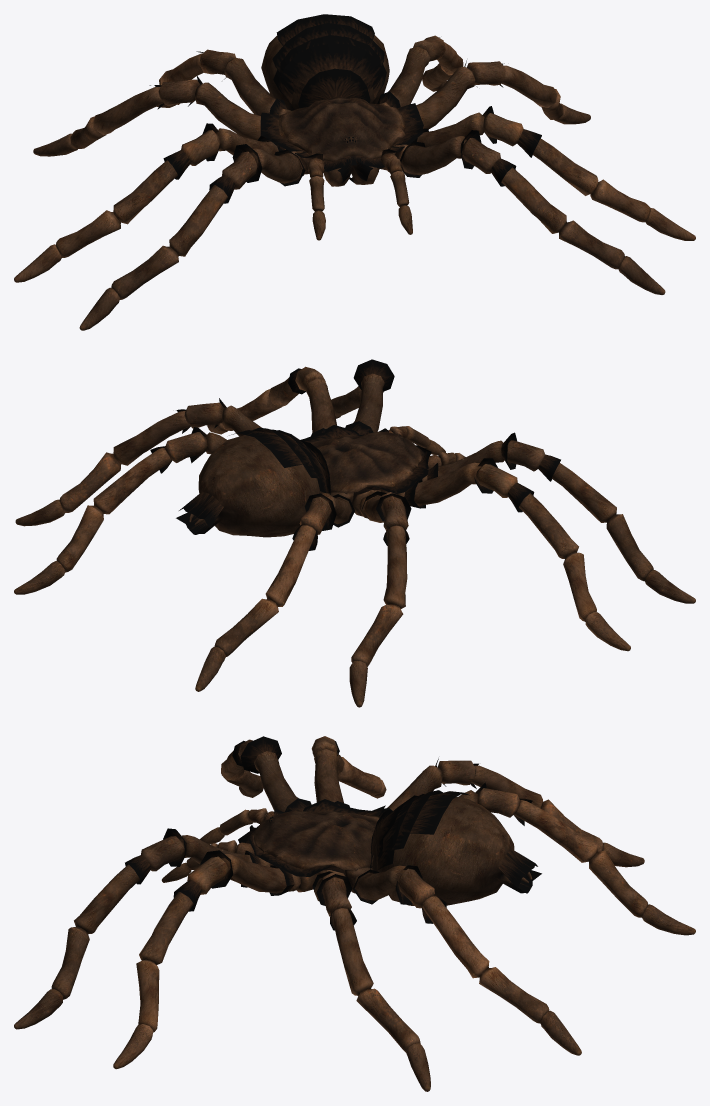
File: AnimaticAraña.fbx
3 renders of one model, top to bottom at view 1: azimuth 30°, elevation 25°; view 2: azimuth 150°, elevation 25°; view 3: azimuth 270°, elevation 25°, orthographic. The views are drawn at different scales.
Visible parts, largest first — view 1: Object_12, Object_14; view 2: Object_12, Object_14; view 3: Object_12, Object_14.
Part boxes in pixels (x1,y1,x2,y2): Object_12: (14,35,695,330); Object_14: (149,14,541,203); Object_12: (14,366,695,707); Object_14: (150,359,560,550); Object_12: (14,736,695,1091); Object_14: (125,736,541,930).
Size of the model in its own units: 724 by 185 by 687.
